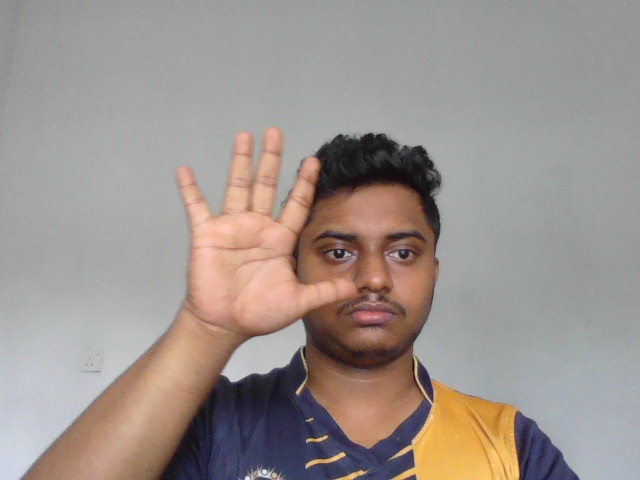Hello: (174, 125, 354, 341)
